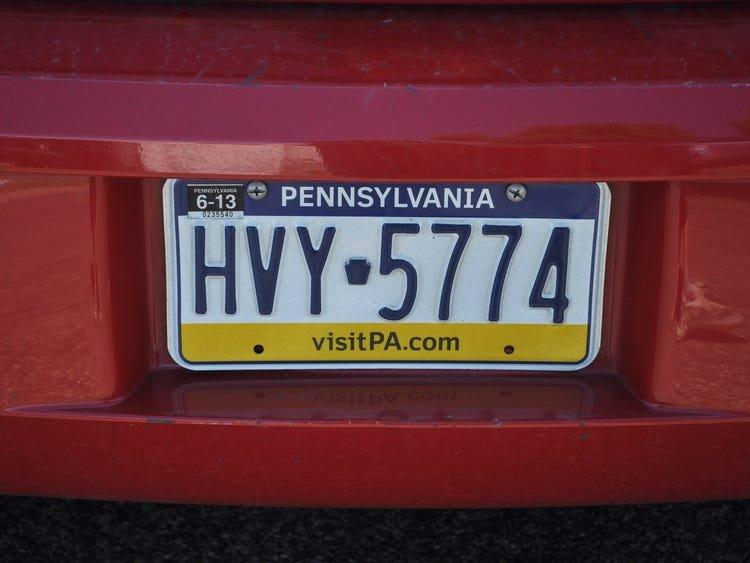Liscence Plate: (173, 183, 597, 365)
